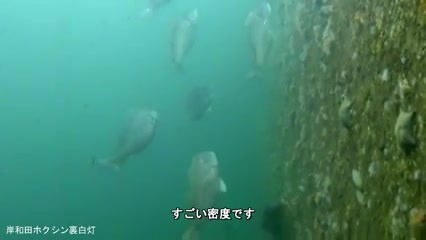kurodai: (90, 107, 166, 175)
